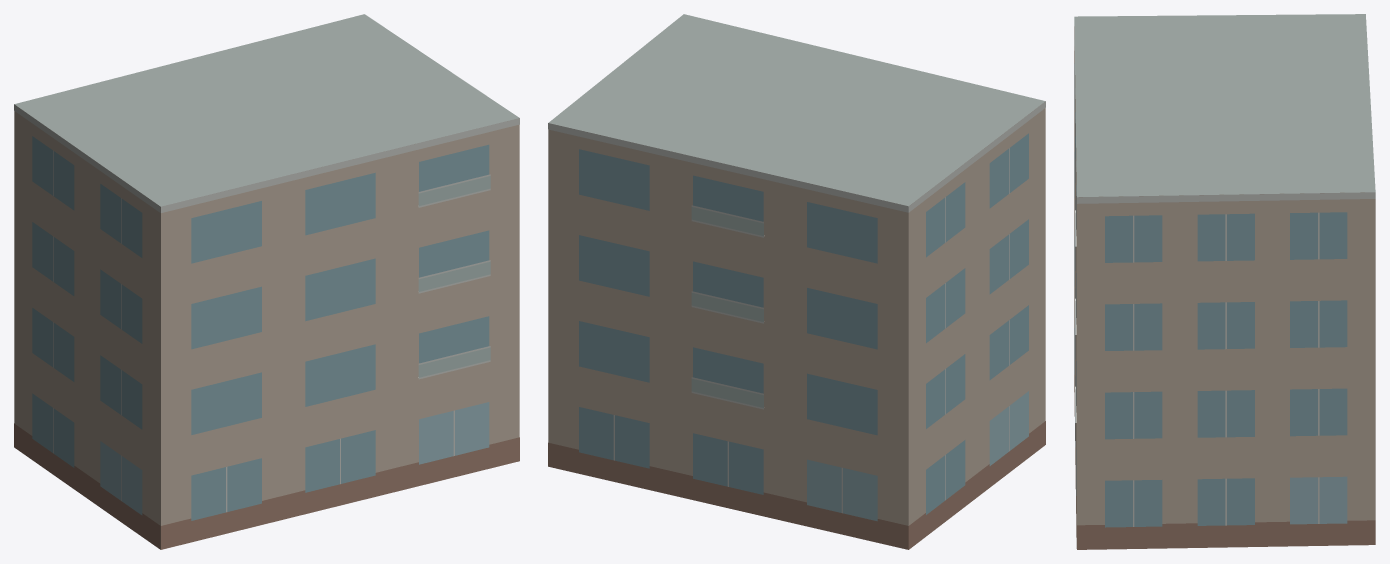
File: survey-upis-32805372.glb
The picture shows the model from 3 angles, left to right: view 1: azimuth 30°, elevation 25°; view 2: azimuth 150°, elevation 25°; view 3: azimuth 270°, elevation 25°; orthographic projection. The views are drawn at different scales.
Parts seen in each view (by area): view 1: survey-upis-32805372.tmp; view 2: survey-upis-32805372.tmp; view 3: survey-upis-32805372.tmp.
Boxes of the visible parts, x1=… form: survey-upis-32805372.tmp: x1=14, y1=14, x2=519, y2=549; survey-upis-32805372.tmp: x1=548, y1=14, x2=1045, y2=549; survey-upis-32805372.tmp: x1=1074, y1=14, x2=1375, y2=549.
Size of the model in its own units: 14.32 by 12.85 by 9.96.
